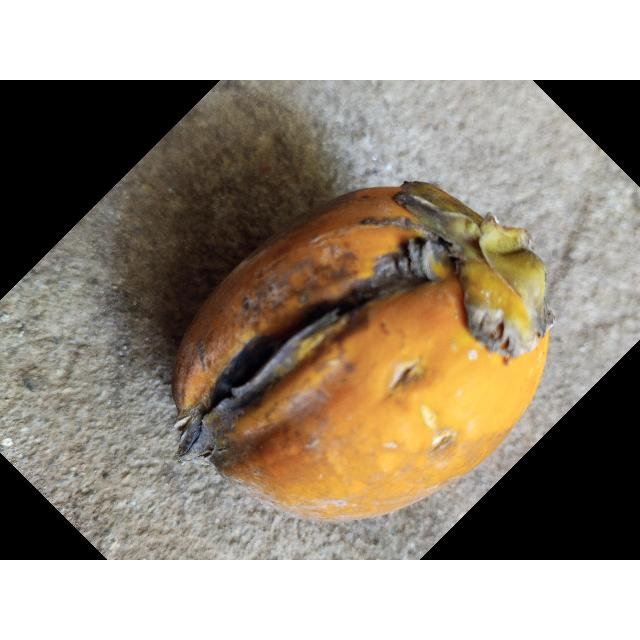damaged: (172, 182, 554, 519)
